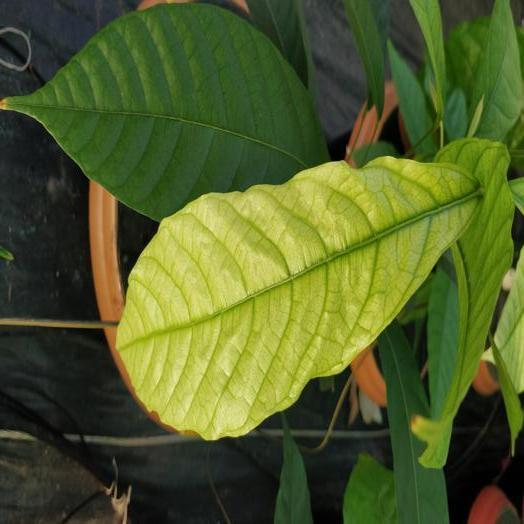Healthy Leaf: (2, 5, 328, 220), (412, 138, 514, 467), (421, 140, 514, 465), (378, 321, 448, 523), (473, 0, 521, 139)
Iron: (117, 158, 486, 438)
